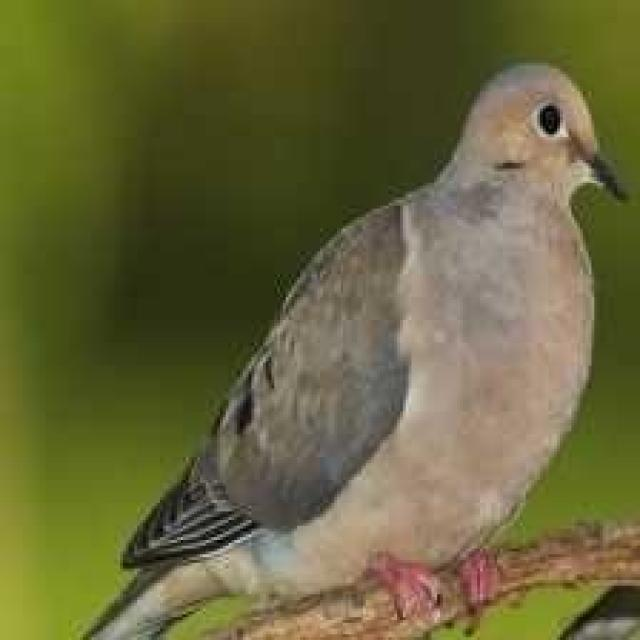dove: (69, 51, 632, 635)
